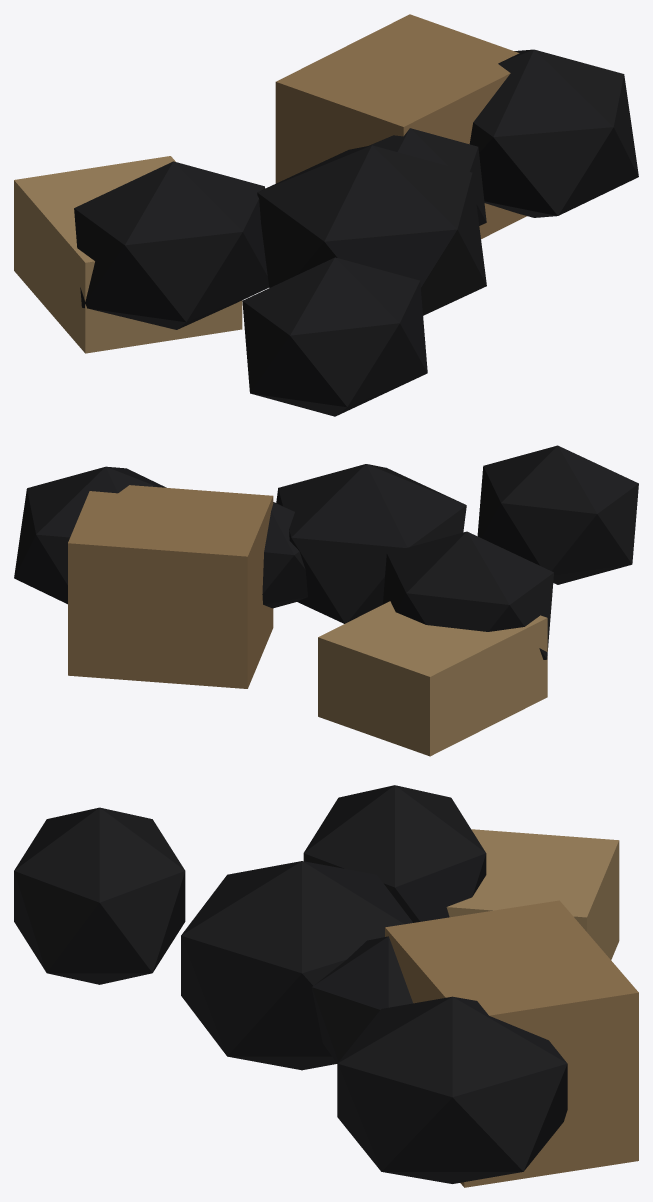
File: trash_pile.glb
The picture shows the model from 3 angles, top to bottom: view 1: azimuth 30°, elevation 25°; view 2: azimuth 150°, elevation 25°; view 3: azimuth 270°, elevation 25°; orthographic projection. The views are drawn at different scales.
Visible parts, largest first — view 1: trash_pile; view 2: trash_pile; view 3: trash_pile.
Boxes of the visible parts, bbox=[...] form: trash_pile: bbox=[14, 14, 638, 416]; trash_pile: bbox=[14, 445, 638, 756]; trash_pile: bbox=[14, 785, 638, 1187].
Size of what is drawn, in the model's own units: 1.57 by 0.4974 by 1.35.
